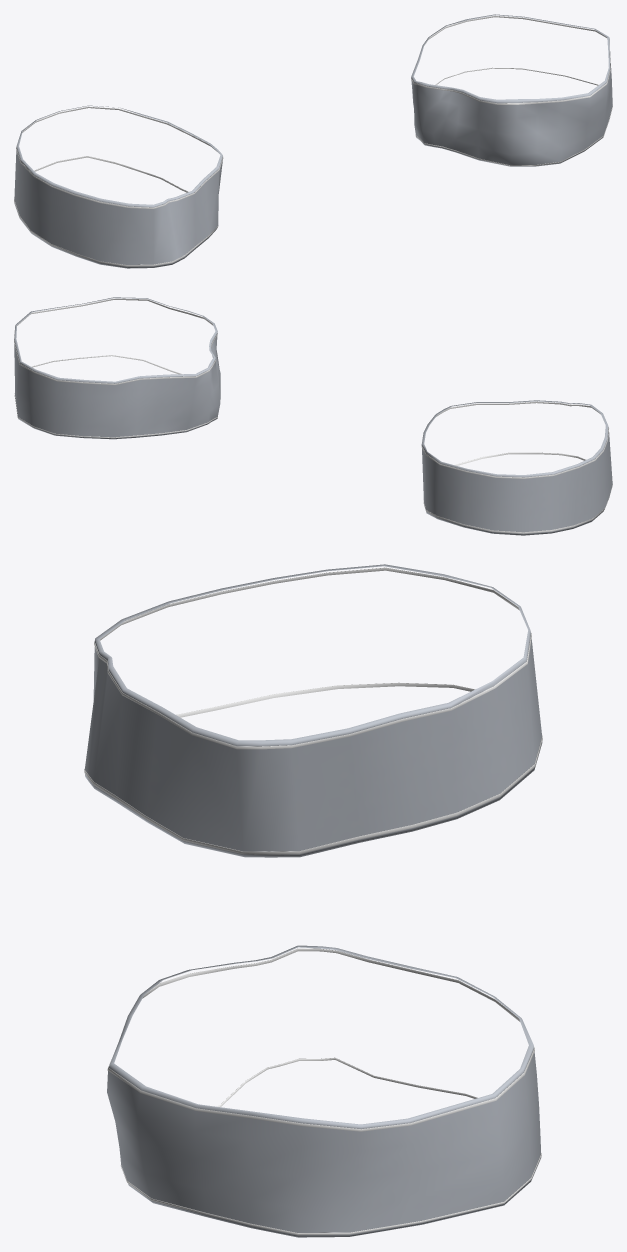
File: Pants_Flic_UNDER_KNEE.glb
The picture shows the model from 3 angles, top to bottom: view 1: azimuth 30°, elevation 25°; view 2: azimuth 150°, elevation 25°; view 3: azimuth 270°, elevation 25°; orthographic projection. The views are drawn at different scales.
Parts seen in each view (by area): view 1: Pants_Flip.001, Pants_Flip1.001; view 2: Pants_Flip.001, Pants_Flip1.001; view 3: Pants_Flip.001, Pants_Flip1.001.
Boxes of the visible parts, left/top/right/bottom form: Pants_Flip.001: left=14, top=14, right=612, bottom=268; Pants_Flip1.001: left=14, top=15, right=612, bottom=266; Pants_Flip.001: left=14, top=297, right=612, bottom=535; Pants_Flip1.001: left=14, top=298, right=612, bottom=533; Pants_Flip.001: left=84, top=564, right=542, bottom=1237; Pants_Flip1.001: left=84, top=567, right=542, bottom=1235.
Bounding box in the file's own units: 0.8119 × 0.1031 × 0.2824.
Materials: 2 (2 with a texture image).
